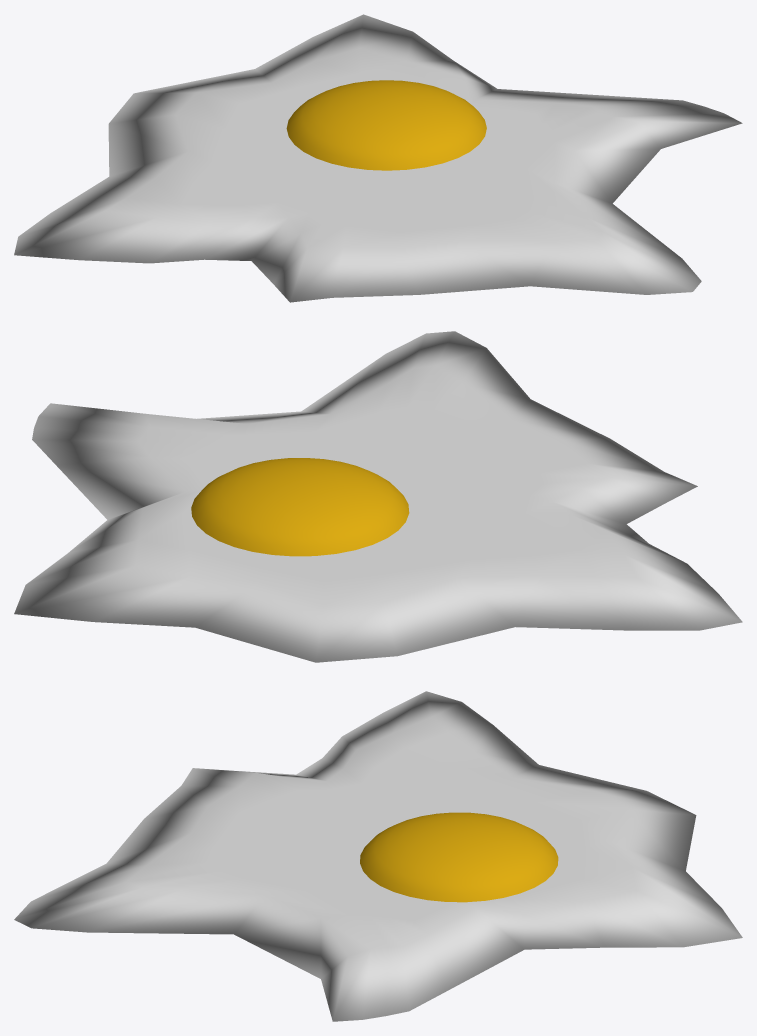
File: egg_2.glb
The picture shows the model from 3 angles, top to bottom: view 1: azimuth 30°, elevation 25°; view 2: azimuth 150°, elevation 25°; view 3: azimuth 270°, elevation 25°; orthographic projection. The views are drawn at different scales.
Visible parts, largest first — view 1: Plane.010, Sphere.016; view 2: Plane.010, Sphere.016; view 3: Plane.010, Sphere.016.
Part boxes in pixels (x1,y1,x2,y2): Plane.010: [14, 14, 742, 302]; Sphere.016: [286, 80, 486, 170]; Plane.010: [14, 331, 742, 662]; Sphere.016: [191, 458, 409, 556]; Plane.010: [14, 691, 742, 1021]; Sphere.016: [360, 812, 558, 902].
Bounding box in the file's own units: 0.1581 × 0.0105 × 0.1473.
